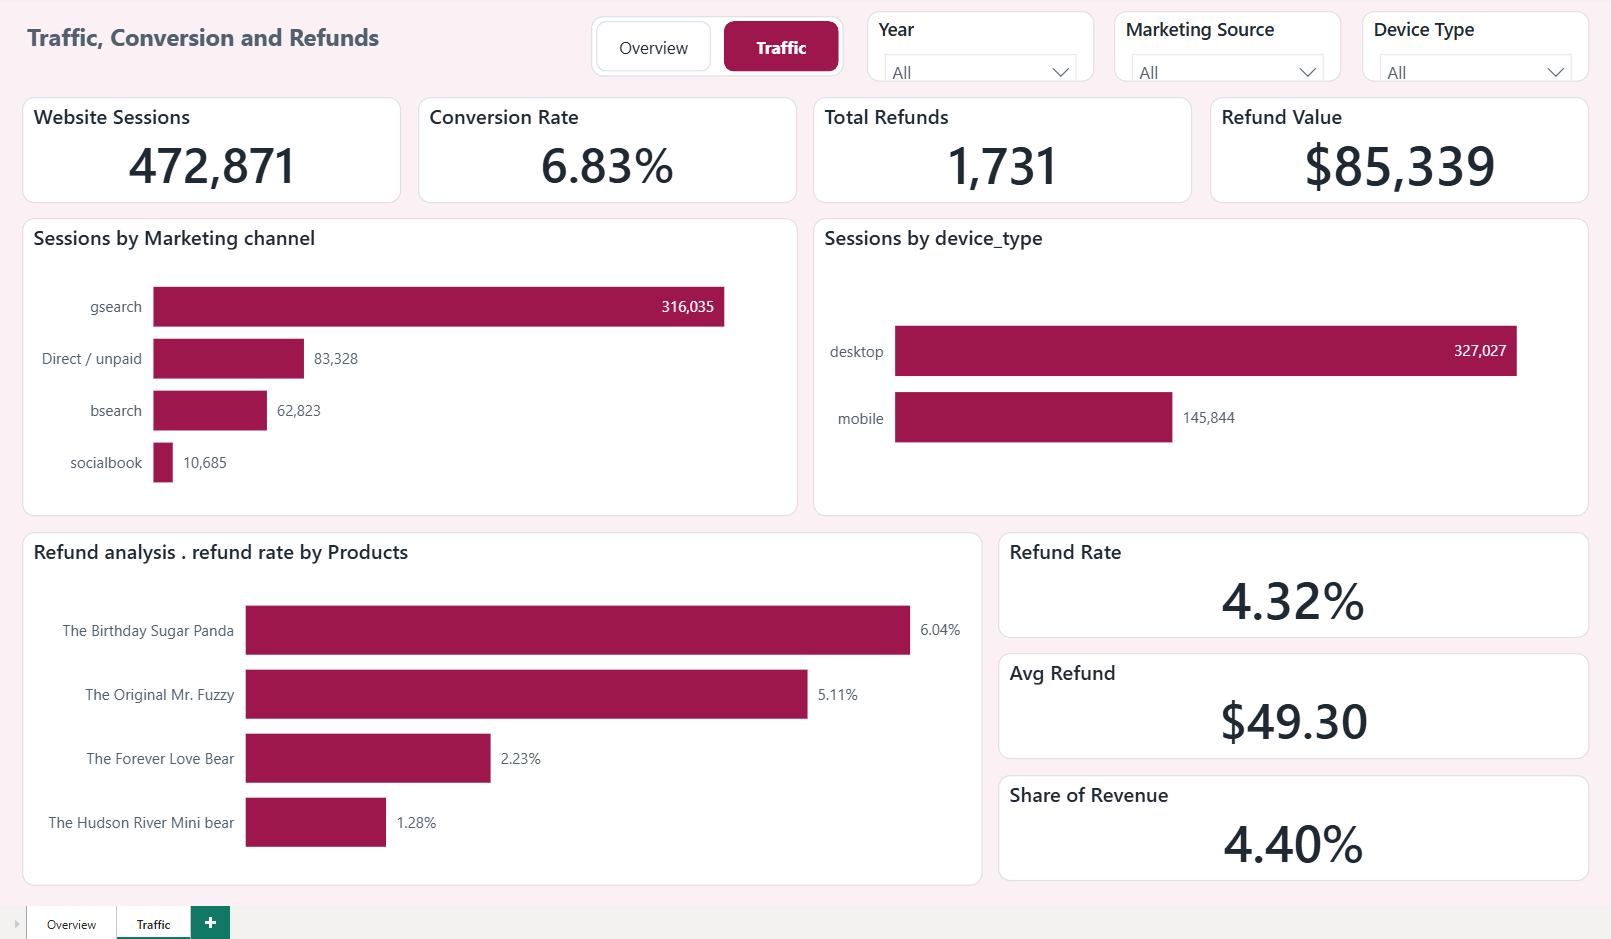

Layout of this report page (visuals, bound fields, positions):
{"tool":"powerbi","page":{"name":"Traffic","canvas":[1280,720],"ordinal":1},"visuals":[{"type":"card","title":"Website Sessions","fields":{"Values":["orders_clean.Website Sessions"]},"box":[20,80,300,84],"z":0},{"type":"card","title":"Conversion Rate","fields":{"Values":["orders_clean.Conversion Rate"]},"box":[333,80,300,84],"z":1000},{"type":"card","title":"Total Refunds","fields":{"Values":["orders_clean.Total Refunds"]},"box":[646,80,300,84],"z":2000},{"type":"card","title":"Refund Value","fields":{"Values":["orders_clean.Refund Value"]},"box":[960,80,300,84],"z":3000},{"type":"textbox","box":[20,16,440,50],"z":4000},{"type":"slicer","title":"Year","fields":{"Values":["sessions_clean.Year"]},"box":[688,12,180,56],"z":5000},{"type":"pageNavigator","box":[470,16,200,48],"z":6000},{"type":"slicer","title":"Marketing Source","fields":{"Values":["sessions_clean.Marketing Source"]},"box":[884,12,180,56],"z":7000},{"type":"slicer","title":"Device Type","fields":{"Values":["sessions_clean.device_type"]},"box":[1080,12,180,56],"z":8000},{"type":"clusteredBarChart","title":"Sessions by Marketing channel","fields":{"Category":["sessions_clean.Marketing Source"],"Y":["orders_clean.Website Sessions"]},"box":[20,176,614,236],"z":9000},{"type":"clusteredBarChart","title":" Sessions by device_type","fields":{"Category":["sessions_clean.device_type"],"Y":["orders_clean.Website Sessions"]},"box":[646,176,614,236],"z":10000},{"type":"clusteredBarChart","title":"Refund analysis . refund rate by Products","fields":{"Category":["products_clean.product_name"],"Y":["refunds_clean.Refund Rate"]},"box":[20,424,760,280],"z":11000},{"type":"card","title":"Refund Rate","fields":{"Values":["refunds_clean.Refund Rate"]},"box":[792,424,468,84],"z":12000},{"type":"card","title":"Avg Refund","fields":{"Values":["refunds_clean.Average Refund"]},"box":[792,520,468,84],"z":13000},{"type":"card","title":"Share of Revenue","fields":{"Values":["refunds_clean.Refund % of Revenue"]},"box":[792,616,468,84],"z":14000}]}

Visuals, with their boxes on the page's 1280x720 design canvas (x1, y1, x2, y2). These are canvas units, not pixel positions in the 1611x939 screenshot, which may show the page scaled, cropped or inside an application window:
"Website Sessions" card: region(20, 80, 320, 164)
"Conversion Rate" card: region(333, 80, 633, 164)
"Total Refunds" card: region(646, 80, 946, 164)
"Refund Value" card: region(960, 80, 1260, 164)
textbox: region(20, 16, 460, 66)
"Year" slicer: region(688, 12, 868, 68)
pageNavigator: region(470, 16, 670, 64)
"Marketing Source" slicer: region(884, 12, 1064, 68)
"Device Type" slicer: region(1080, 12, 1260, 68)
"Sessions by Marketing channel" clusteredBarChart: region(20, 176, 634, 412)
" Sessions by device_type" clusteredBarChart: region(646, 176, 1260, 412)
"Refund analysis . refund rate by Products" clusteredBarChart: region(20, 424, 780, 704)
"Refund Rate" card: region(792, 424, 1260, 508)
"Avg Refund" card: region(792, 520, 1260, 604)
"Share of Revenue" card: region(792, 616, 1260, 700)
